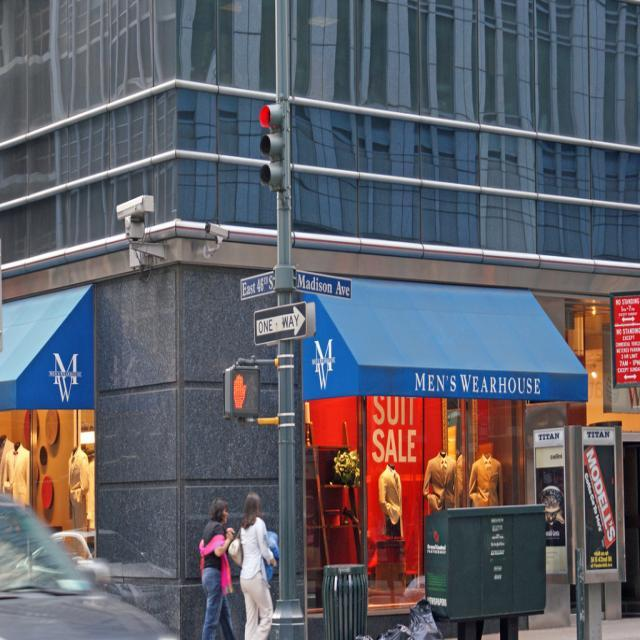traffic light: (260, 95, 292, 190)
